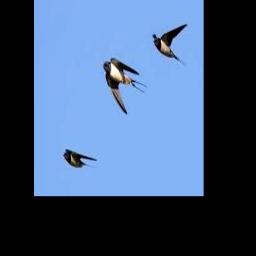Swallow: (103, 57, 148, 114), (153, 24, 188, 66), (64, 149, 97, 168)
